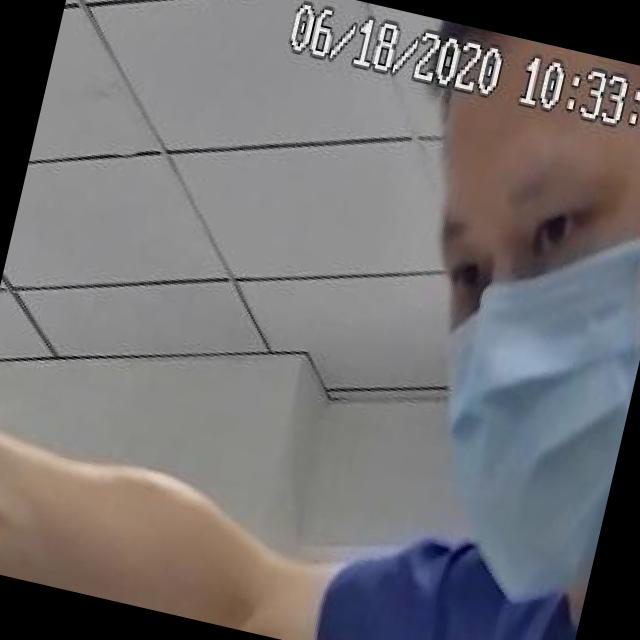Guns: (0, 392, 49, 577)
